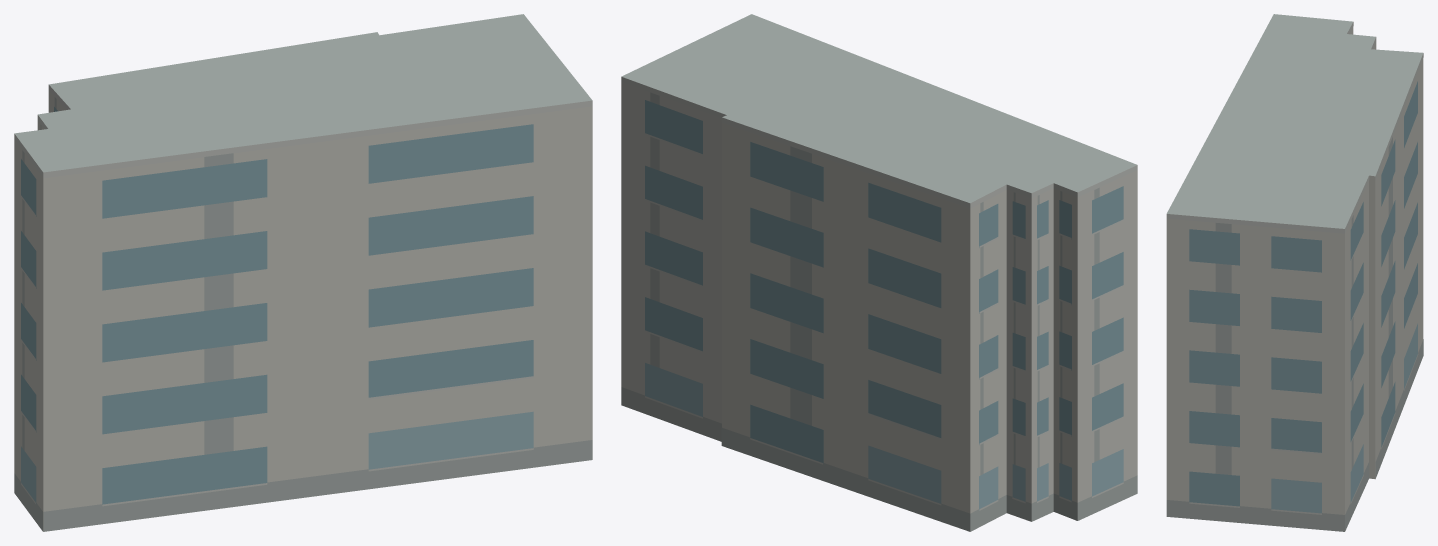
Rendered from survey-upis-32822473.glb.
3 renders of one model, left to right at view 1: azimuth 30°, elevation 25°; view 2: azimuth 150°, elevation 25°; view 3: azimuth 270°, elevation 25°, orthographic. The views are drawn at different scales.
Parts seen in each view (by area): view 1: survey-upis-32822473.tmp; view 2: survey-upis-32822473.tmp; view 3: survey-upis-32822473.tmp.
Boxes of the visible parts, x1,y1,x2,y2 form: survey-upis-32822473.tmp: (14, 14, 592, 531); survey-upis-32822473.tmp: (621, 14, 1137, 531); survey-upis-32822473.tmp: (1166, 14, 1423, 531).
Size of the model in its own units: 23.6 by 15.5 by 11.93.
